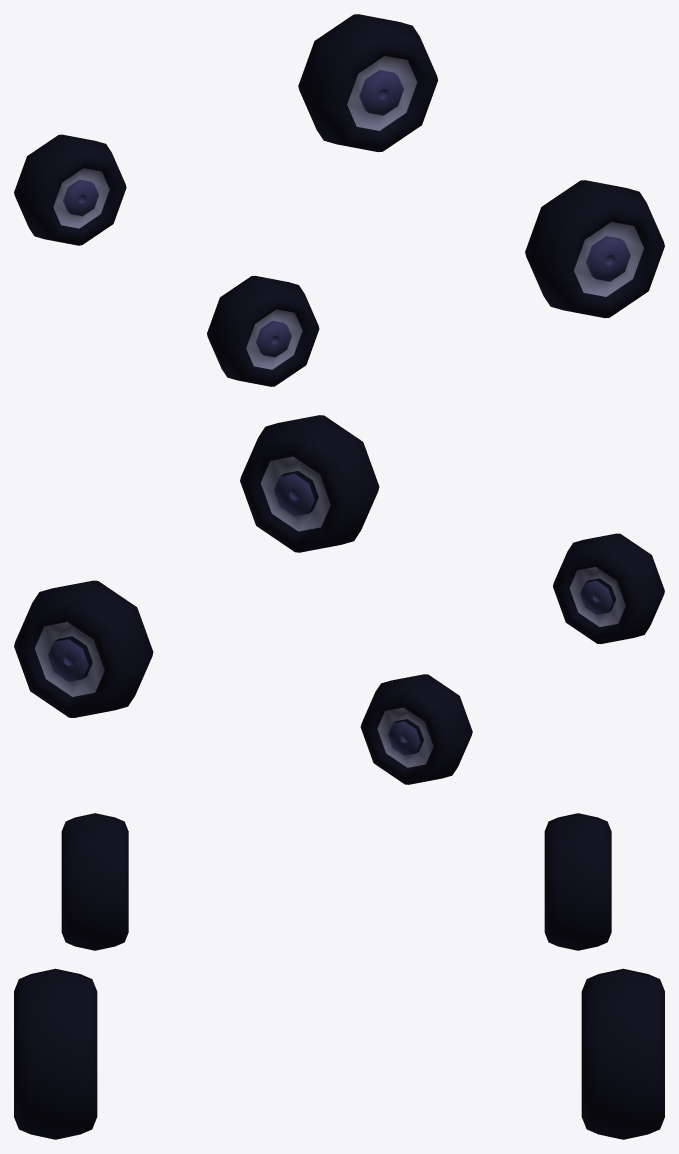
The model's file is Car_1_Wheels 1.fbx.
The picture shows the model from 3 angles, top to bottom: view 1: azimuth 30°, elevation 25°; view 2: azimuth 150°, elevation 25°; view 3: azimuth 270°, elevation 25°; orthographic projection. The views are drawn at different scales.
Parts seen in each view (by area): view 1: pCylinder96; view 2: pCylinder96; view 3: pCylinder96.
Part boxes in pixels (<box>): pCylinder96: <box>14,14,664,386</box>; pCylinder96: <box>14,415,664,784</box>; pCylinder96: <box>14,813,664,1139</box>.
Bounding box in the file's own units: 291 × 87.84 × 305.
